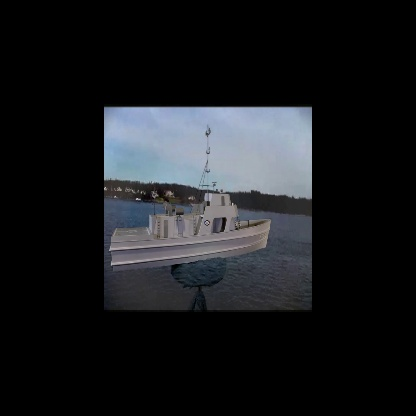YP689: (110, 122, 272, 274)
